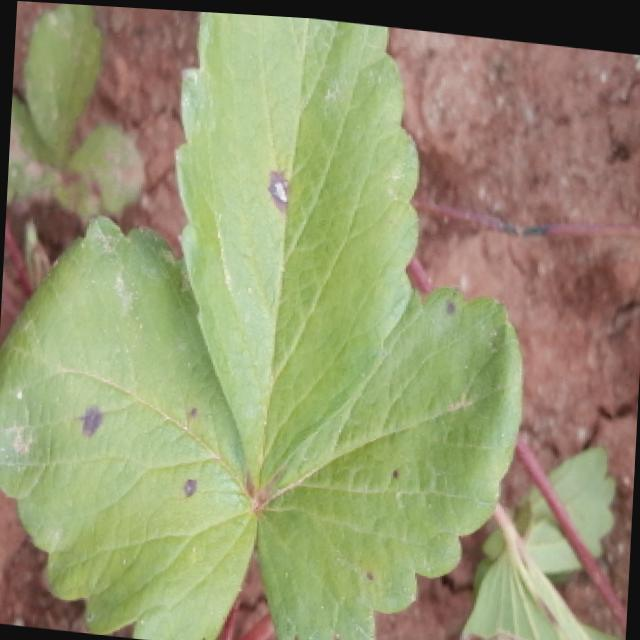Leaf Spot: (173, 9, 422, 500), (0, 212, 261, 640), (255, 278, 522, 640), (52, 115, 145, 226)
